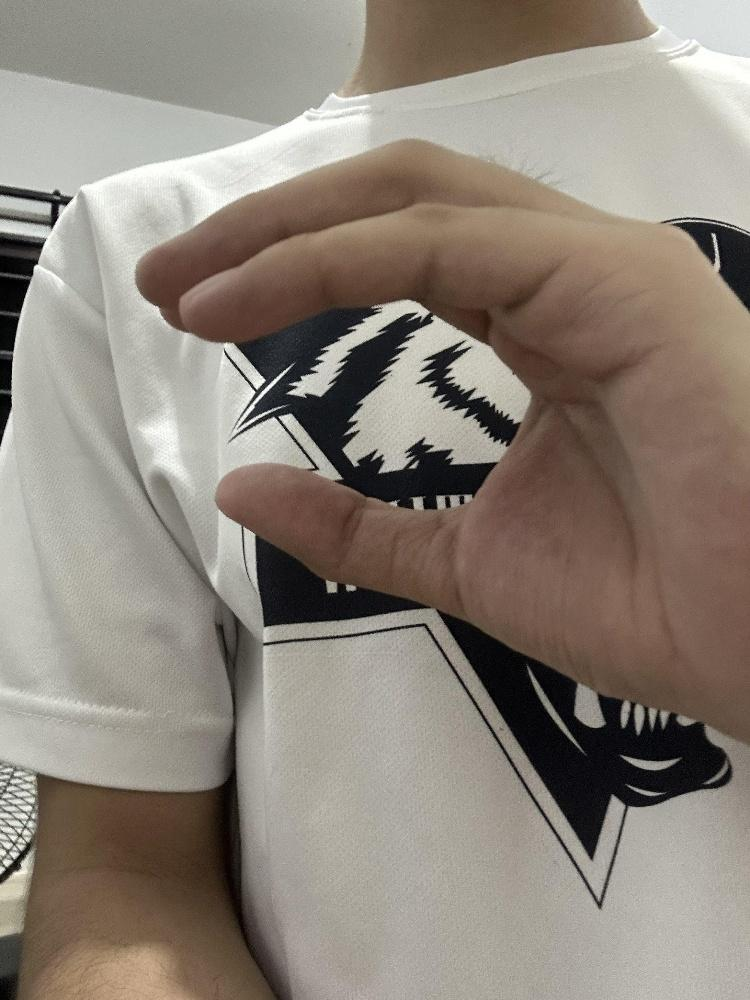c: (128, 132, 749, 755)
